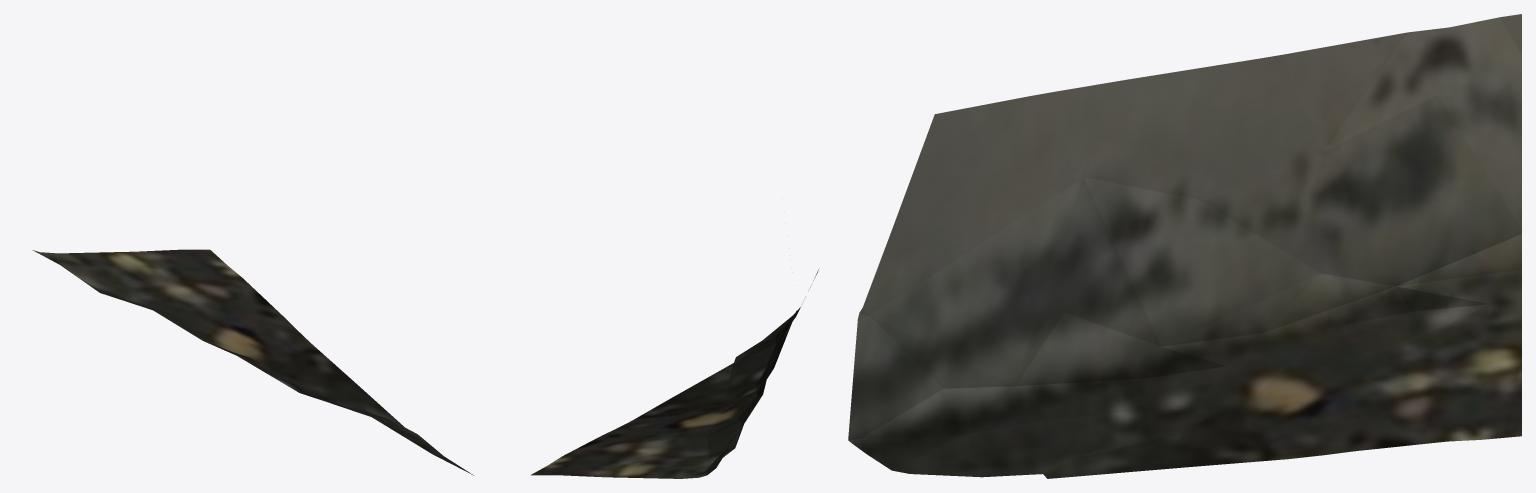
3 renders of one model, left to right at view 1: azimuth 30°, elevation 25°; view 2: azimuth 150°, elevation 25°; view 3: azimuth 270°, elevation 25°, orthographic. The views are drawn at different scales.
Size of the model in its own units: 0.4415 by 0.6798 by 1.14.
Materials: 1 (1 with a texture image).
